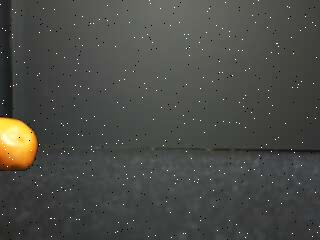Potato: (0, 116, 38, 170)
